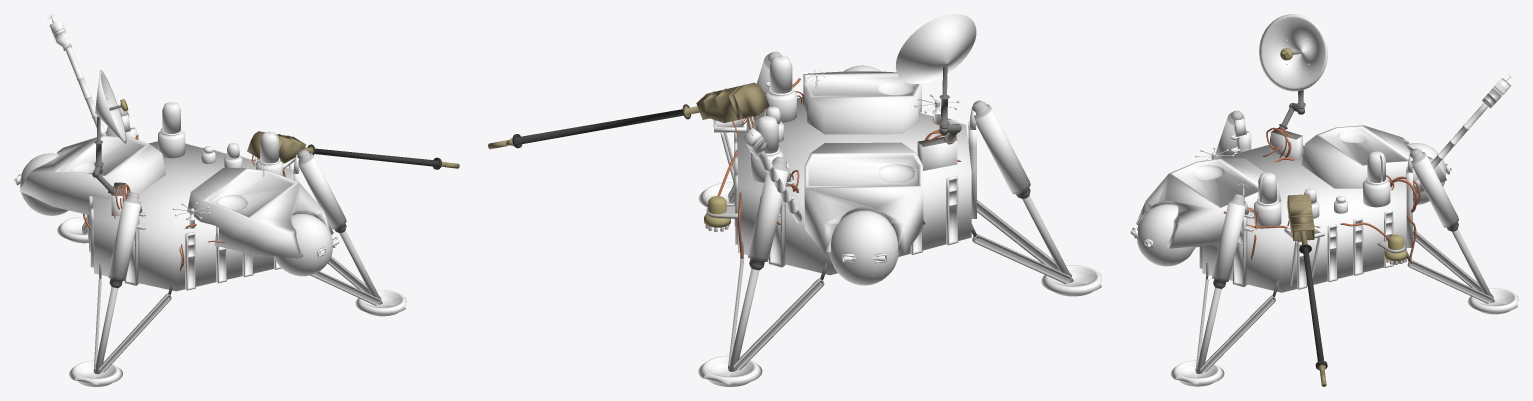
File: viking.glb
3 views of the same model, side by side, from view 1: azimuth 30°, elevation 25°; view 2: azimuth 150°, elevation 25°; view 3: azimuth 270°, elevation 25° (orthographic). The views are drawn at different scales.
Visible parts, largest first — view 1: polySurfa1, polySurfa2; view 2: polySurfa1, polySurfa2; view 3: polySurfa1, polySurfa2.
Boxes of the visible parts, bbox=[...] form: polySurfa1: bbox=[14, 14, 459, 386]; polySurfa2: bbox=[83, 134, 258, 270]; polySurfa1: bbox=[488, 14, 1101, 386]; polySurfa2: bbox=[717, 95, 961, 260]; polySurfa1: bbox=[1130, 14, 1518, 386]; polySurfa2: bbox=[1211, 127, 1420, 263].
Bounding box in the file's own units: 16.74 × 8.97 × 12.55.
Materials: 4 (4 with a texture image).
